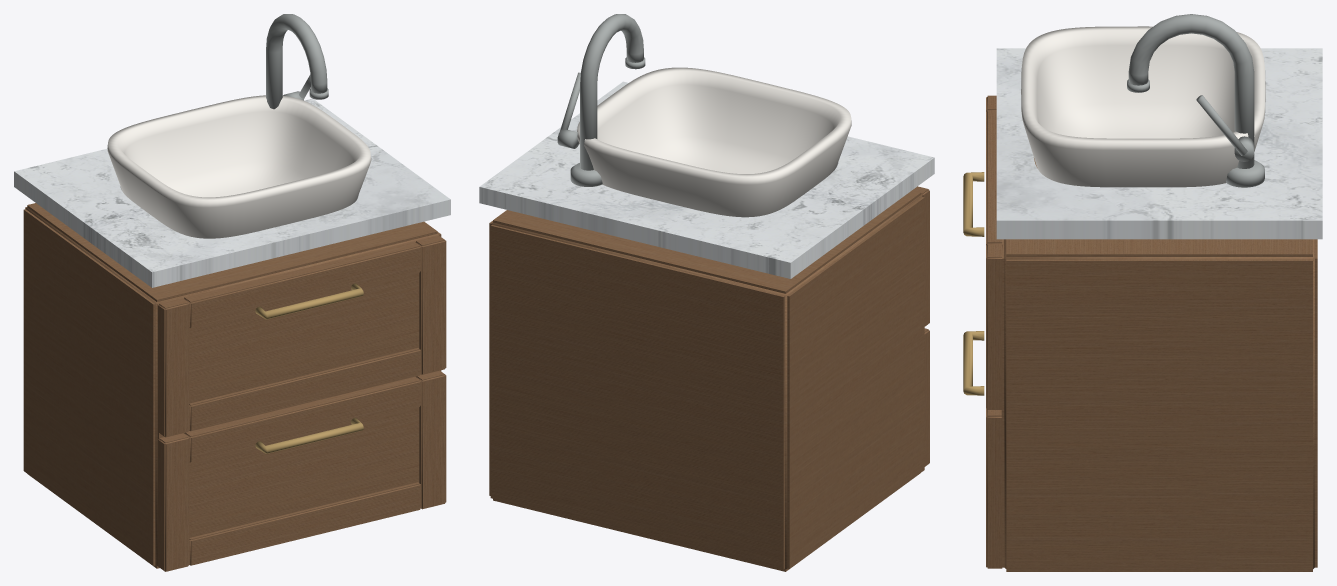
File: traditional.wall_vanity.gltf
The picture shows the model from 3 angles, left to right: view 1: azimuth 30°, elevation 25°; view 2: azimuth 150°, elevation 25°; view 3: azimuth 270°, elevation 25°; orthographic projection. The views are drawn at different scales.
Parts seen in each view (by area): view 1: traditional.wall_vanity.wall-hung-cabinet; view 2: traditional.wall_vanity.wall-hung-cabinet; view 3: traditional.wall_vanity.wall-hung-cabinet.
Part boxes in pixels (bbox=[...]): traditional.wall_vanity.wall-hung-cabinet: bbox=[14, 14, 450, 571]; traditional.wall_vanity.wall-hung-cabinet: bbox=[479, 14, 934, 571]; traditional.wall_vanity.wall-hung-cabinet: bbox=[963, 14, 1322, 571].
Size of the model in its own units: 0.5 by 0.7052 by 0.441.
5 materials, 2 textured.
